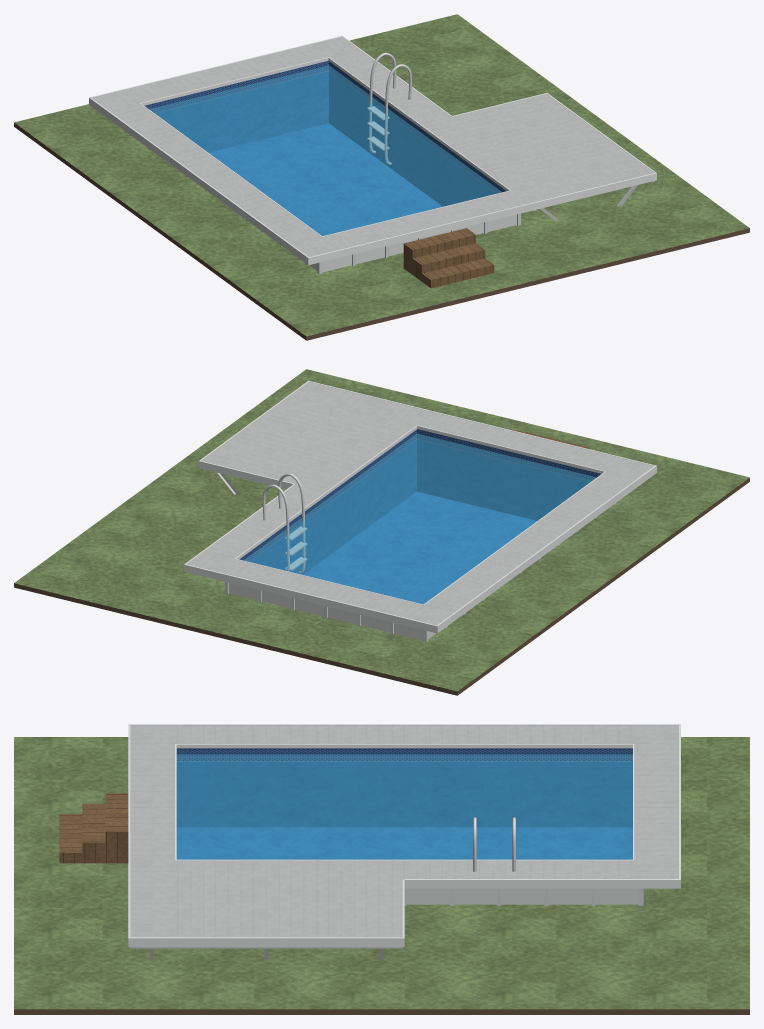
File: kayak-pool-12x20-white-l-rec-nofence.6822d949ae.glb
The picture shows the model from 3 angles, top to bottom: view 1: azimuth 30°, elevation 25°; view 2: azimuth 150°, elevation 25°; view 3: azimuth 270°, elevation 25°; orthographic projection. The views are drawn at different scales.
Visible parts, largest first — view 1: ground, water, deck, liner_wall, liner_floor, fascia, steps, soil, wall, steel; view 2: ground, water, deck, liner_wall, liner_floor, fascia, soil, wall, steel; view 3: ground, water, deck, liner_wall, liner_floor, fascia, soil, steps, wall, stud.
Boxes of the visible parts, bbox=[...] form: ground: bbox=[14, 14, 749, 336]; water: bbox=[149, 65, 501, 235]; deck: bbox=[92, 37, 653, 257]; liner_wall: bbox=[144, 61, 506, 206]; liner_floor: bbox=[209, 123, 442, 235]; fascia: bbox=[89, 35, 656, 265]; steps: bbox=[403, 228, 494, 288]; soil: bbox=[14, 122, 749, 340]; wall: bbox=[309, 214, 516, 272]; steel: bbox=[367, 52, 411, 164]; ground: bbox=[14, 369, 749, 691]; water: bbox=[244, 433, 596, 604]; deck: bbox=[186, 382, 654, 625]; liner_wall: bbox=[239, 429, 601, 574]; liner_floor: bbox=[303, 491, 536, 604]; fascia: bbox=[184, 380, 656, 633]; soil: bbox=[14, 477, 749, 695]; wall: bbox=[229, 582, 435, 640]; steel: bbox=[262, 473, 307, 573]; ground: bbox=[14, 737, 749, 1009]; water: bbox=[176, 754, 632, 859]; deck: bbox=[130, 725, 678, 937]; liner_wall: bbox=[176, 748, 632, 827]; liner_floor: bbox=[176, 827, 632, 859]; fascia: bbox=[128, 724, 680, 947]; soil: bbox=[14, 1009, 749, 1014]; steps: bbox=[59, 793, 128, 863]; wall: bbox=[406, 888, 638, 904]; stud: bbox=[130, 947, 402, 960].
Size of the model in its own units: 8.53 by 1.9 by 9.75.
12 materials, 5 textured.
